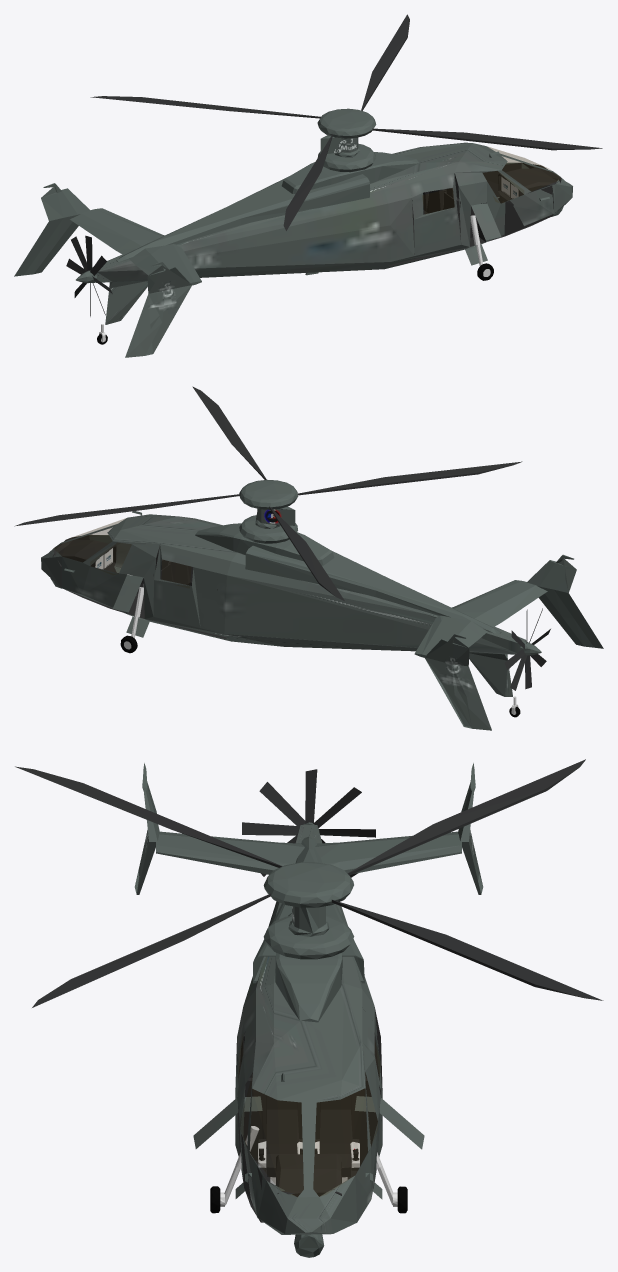
The picture shows the model from 3 angles, top to bottom: view 1: azimuth 30°, elevation 25°; view 2: azimuth 150°, elevation 25°; view 3: azimuth 270°, elevation 25°; orthographic projection. The views are drawn at different scales.
Parts seen in each view (by area): view 1: Object_4, Object_8, Object_24, Object_6, Object_18, Object_5, Object_13; view 2: Object_4, Object_8, Object_24, Object_18, Object_5, Object_6, Object_13; view 3: Object_4, Object_8, Object_24, Object_6, Object_5, Object_39.
Boxes of the visible parts, x1,y1,x2,y2 form: Object_4: (92,142,572,324); Object_8: (14,108,563,355); Object_24: (66,14,602,316); Object_6: (388,162,561,266); Object_18: (41,187,191,357); Object_5: (422,147,560,213); Object_13: (320,135,358,153); Object_4: (41,514,526,696); Object_8: (50,479,603,728); Object_24: (14,386,550,690); Object_18: (424,558,576,730); Object_5: (54,518,190,587); Object_6: (52,534,227,638); Object_13: (257,508,295,525); Object_4: (193,825,424,1234); Object_8: (134,763,483,1257); Object_24: (15,759,603,1007); Object_6: (235,1007,382,1222); Object_5: (238,1038,379,1196); Object_39: (220,1126,397,1206).
Bounding box in the file's own units: 13.7 × 4.33 × 9.08.
Materials: 11 (4 with a texture image).
